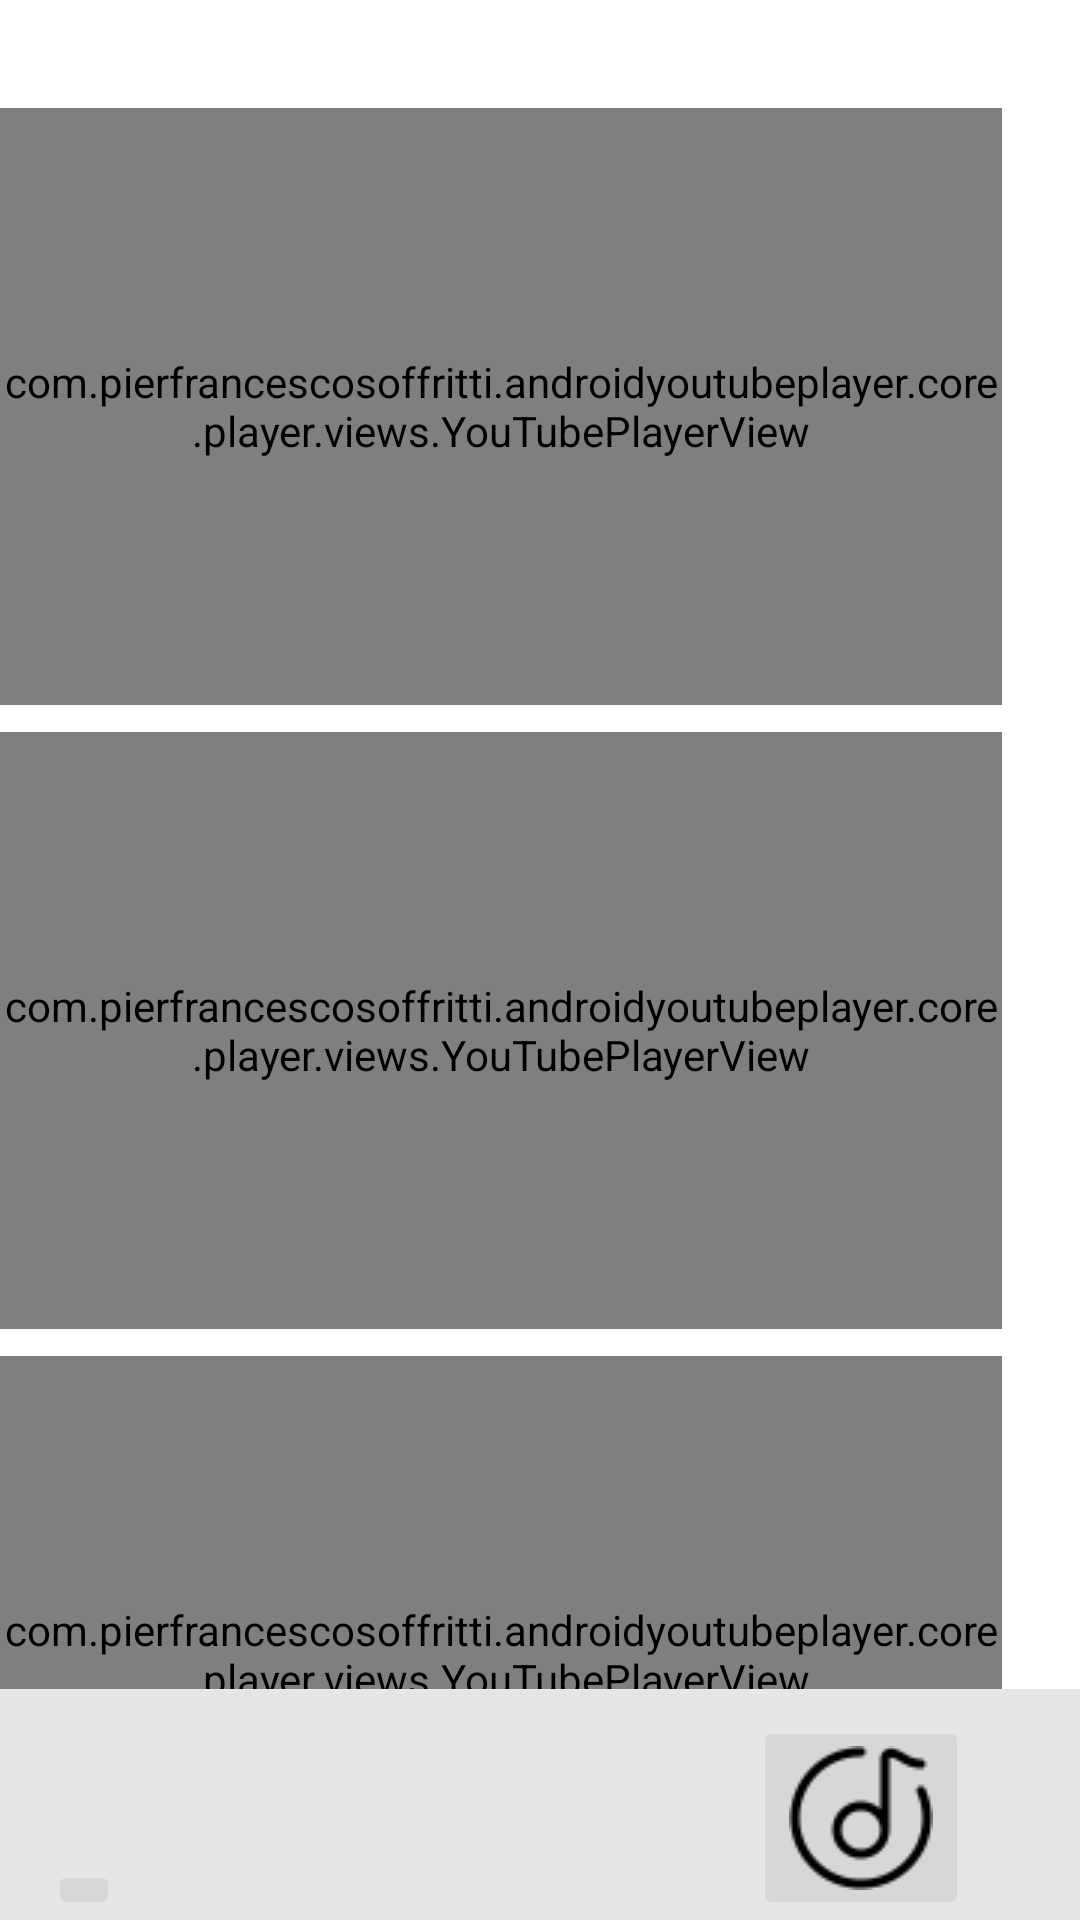

Where icons sit on this 1080 x 1920 app screen, as (x1, y1, x2, y2):
songs: (765, 1734, 957, 1902)
